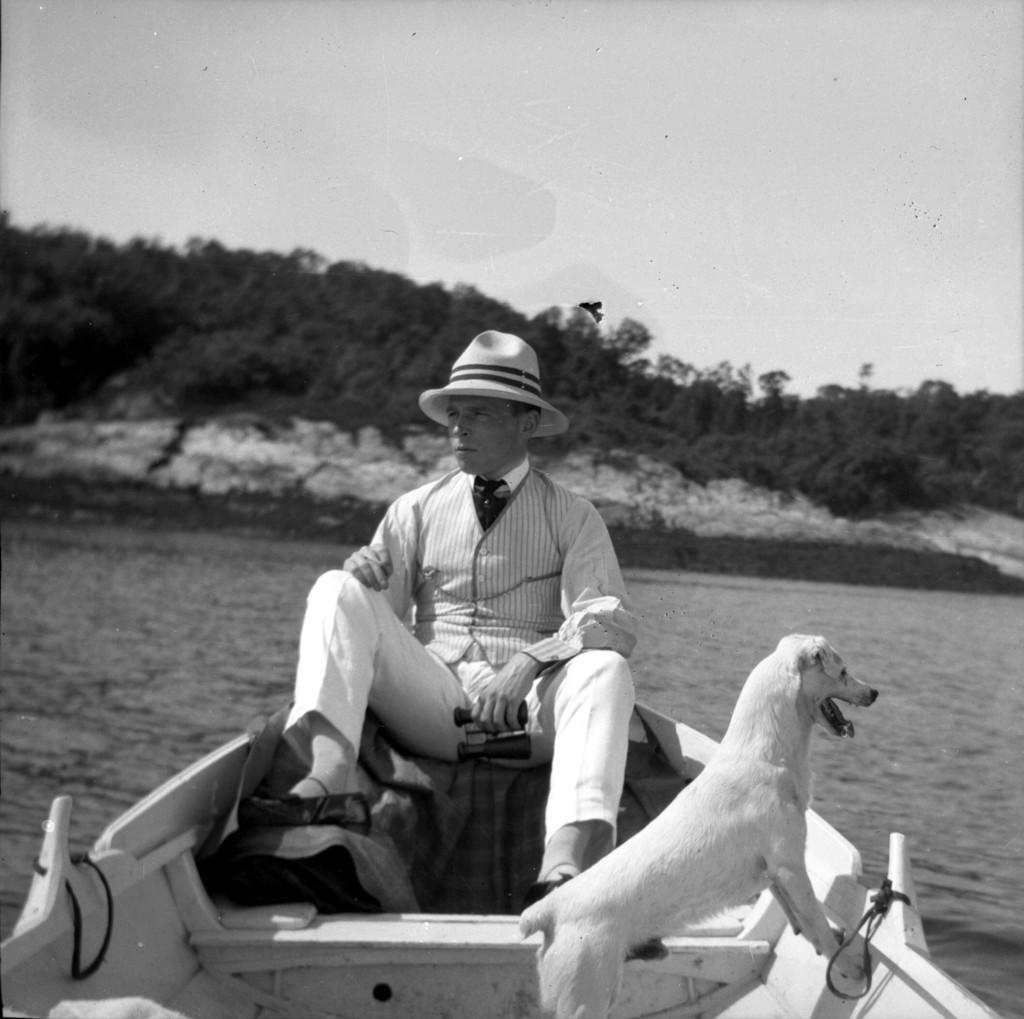Hat: (426, 330, 570, 452)
